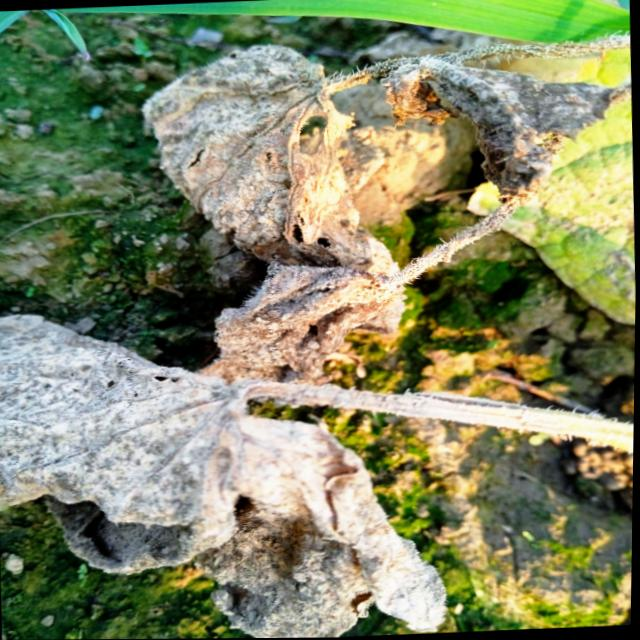Bacterial-Wilt: (0, 315, 451, 638), (140, 45, 399, 274), (380, 57, 630, 213), (200, 264, 401, 387)
